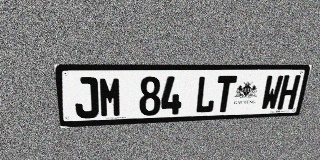4: (160, 76, 183, 115)
8: (139, 76, 162, 116)
H: (277, 75, 301, 110)
J: (73, 77, 99, 119)
L: (194, 76, 218, 113)
M: (98, 77, 122, 118)
T: (214, 76, 237, 113)
W: (260, 75, 284, 110)
